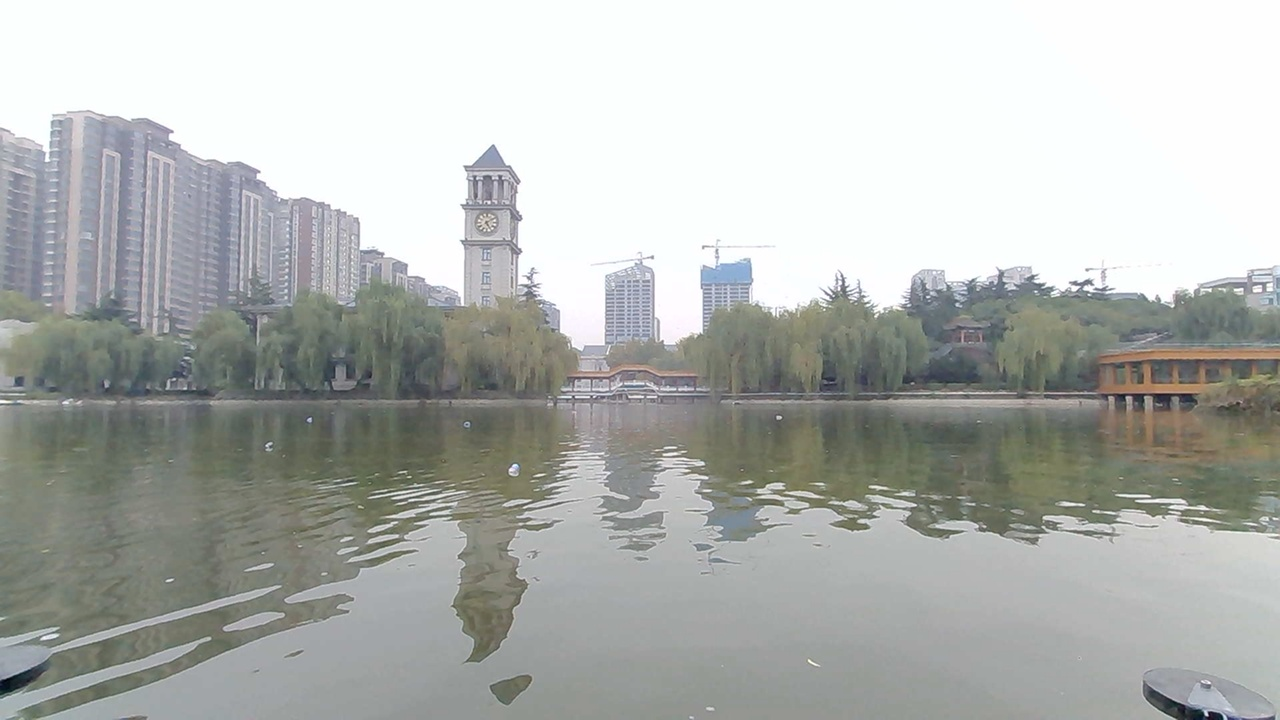bottle: (482, 451, 542, 484), (251, 435, 292, 458), (762, 403, 801, 426), (450, 408, 487, 432), (290, 403, 326, 427)
